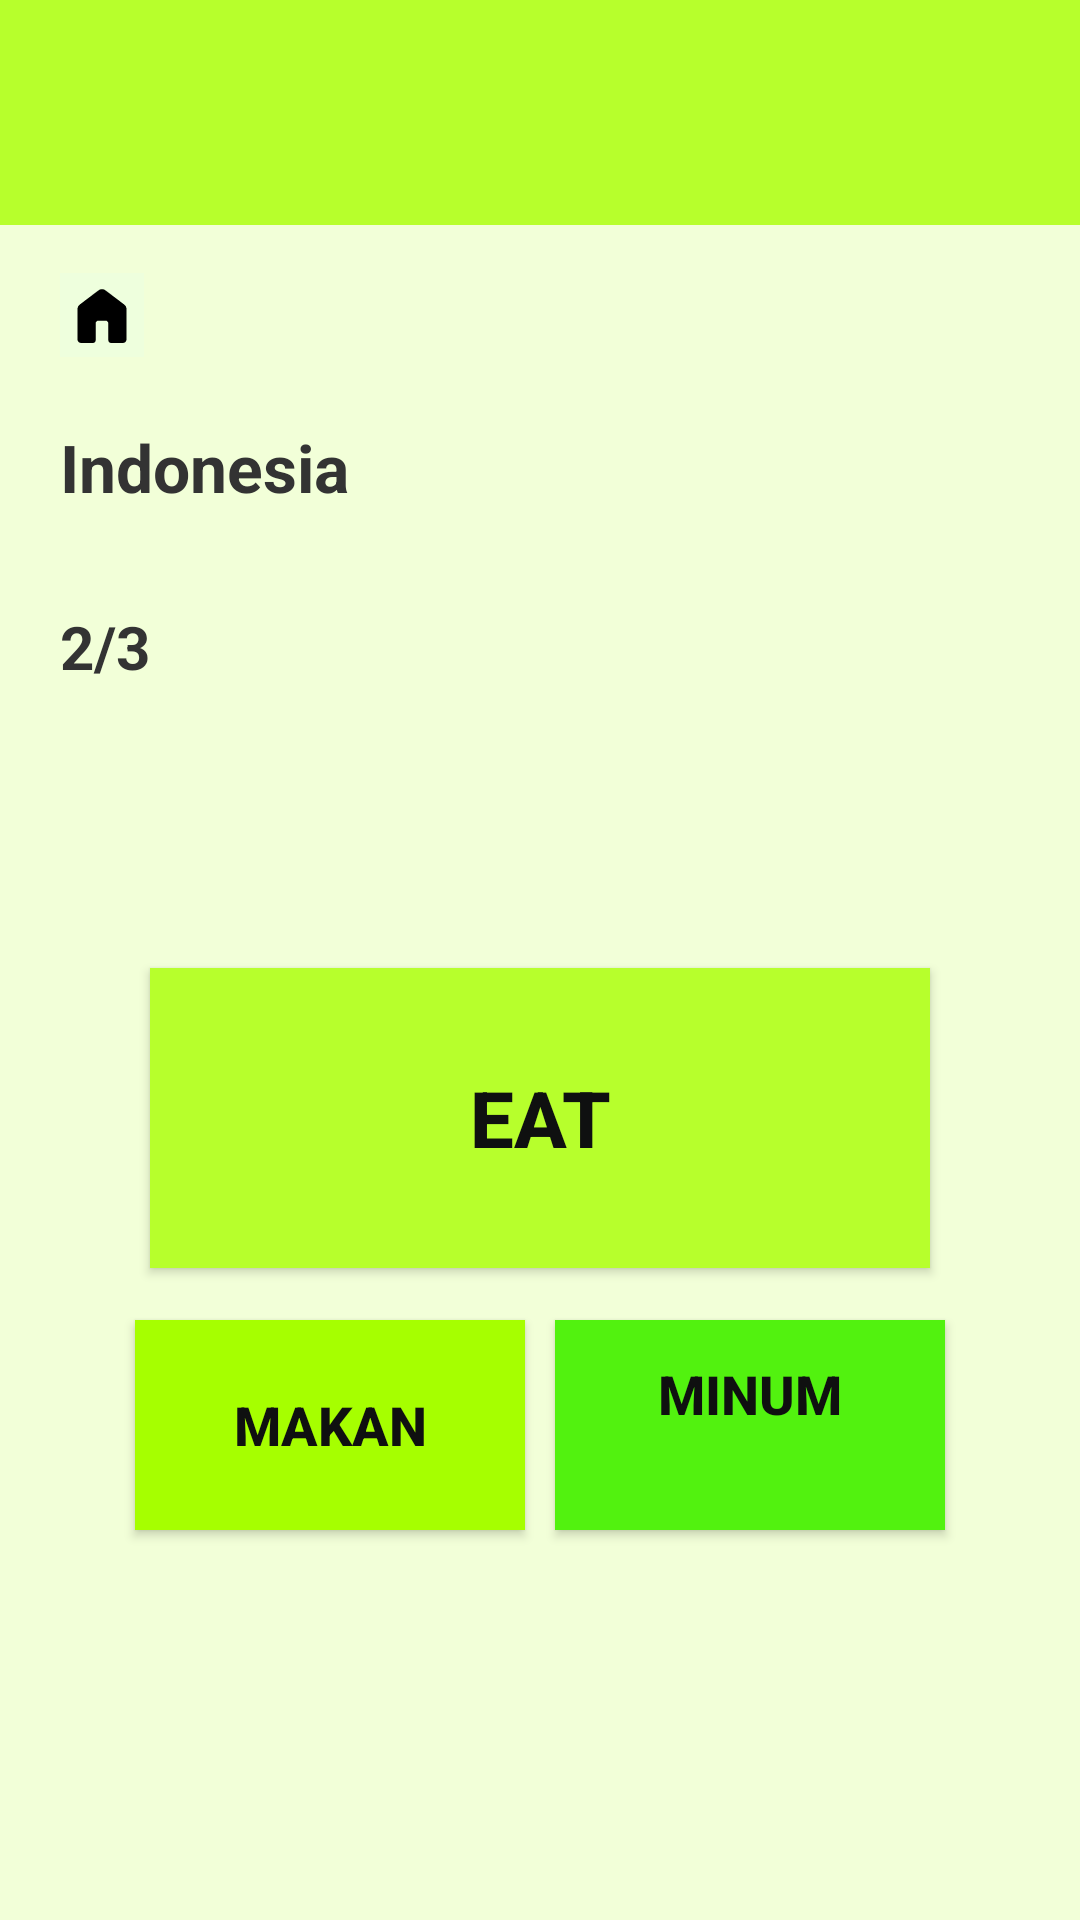

Named icons in this screenshot (1080px×1920px) and their bounding boxes, box=[x1, y1, x2, y2]:
Home: box=[77, 289, 127, 343]
